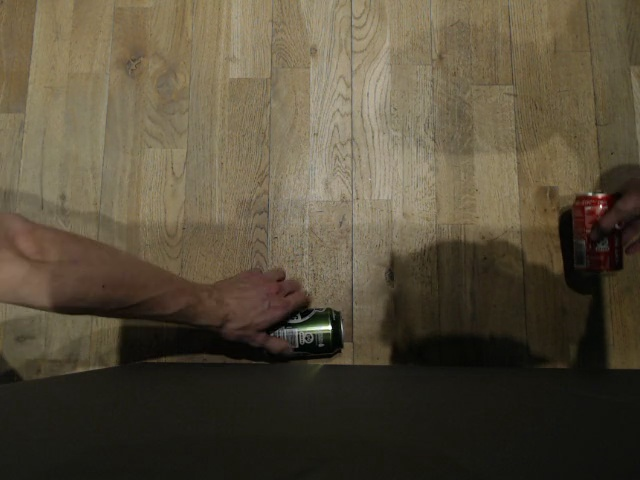beer: (256, 307, 341, 361)
cola: (569, 191, 620, 273)
